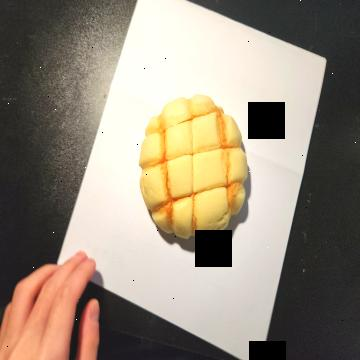melon_bread: (139, 97, 249, 241)
